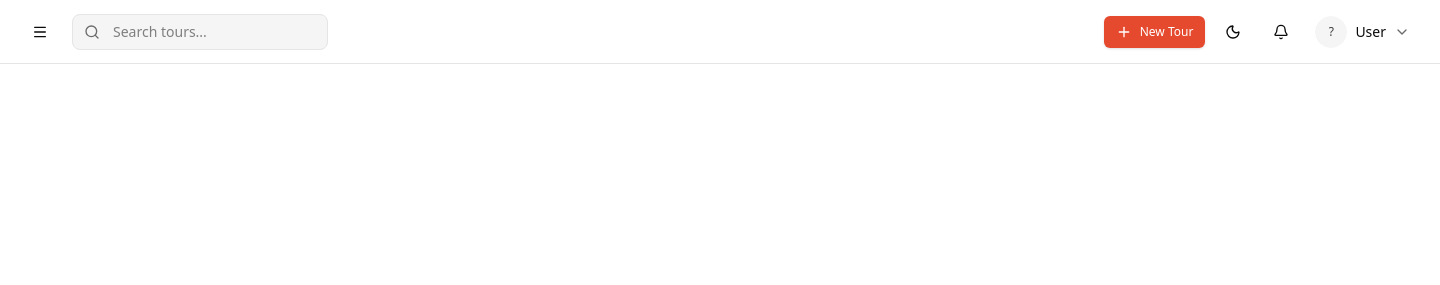
Test case: Header › notifications › shows an empty state before any notification arrives
Click the button named "Notifications" at (1281, 32), box [1261,12,1301,52]
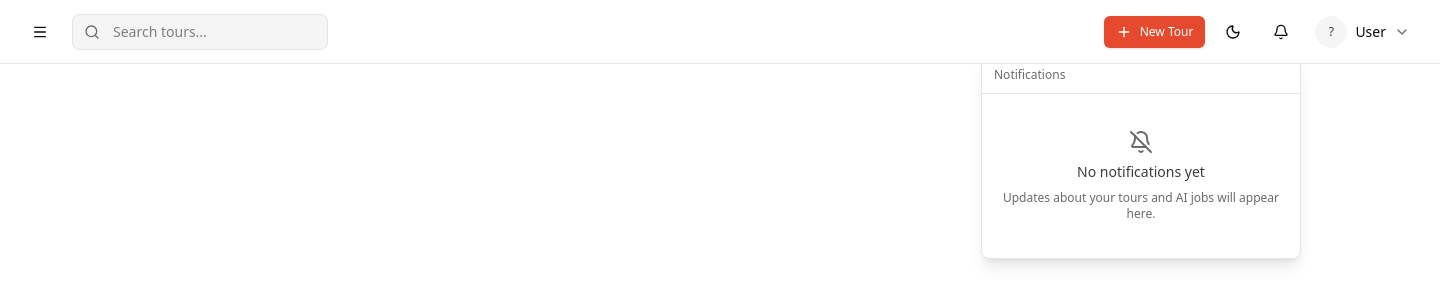
Expected: the text "No notifications yet" is shown, [1077,162,1205,182]
Expected: the message "No notifications yet Updates about your tours and AI jobs will appear here." is shown, [1003,130,1279,222]
